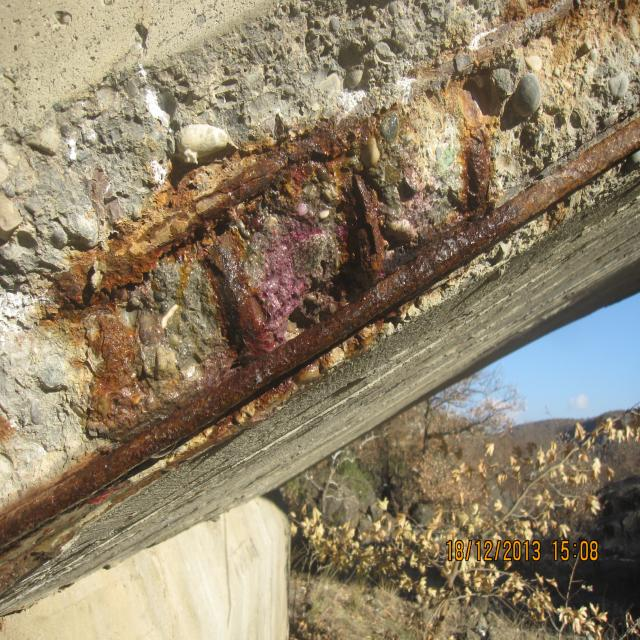corrosion: (0, 116, 327, 621), (324, 0, 640, 336)
